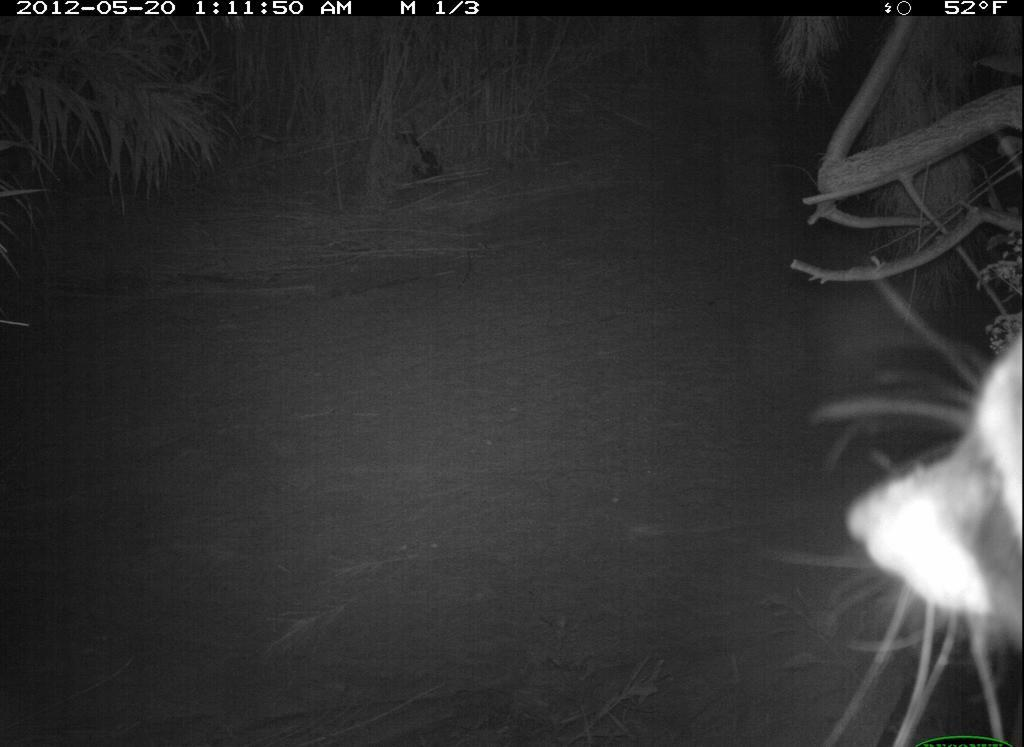raccoon: (843, 306, 1018, 735)
